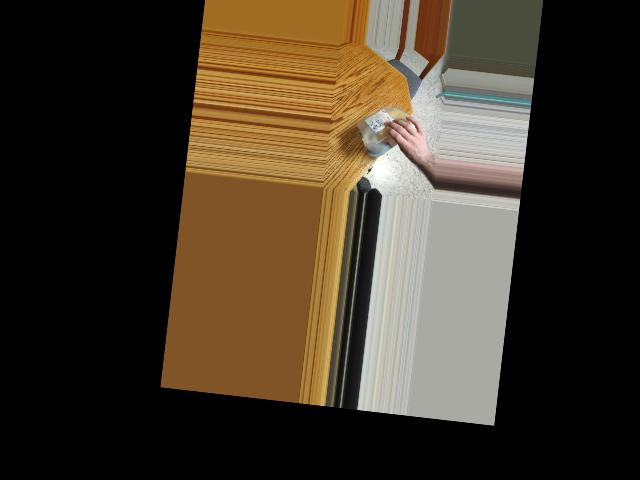cheese: (353, 99, 424, 159)
